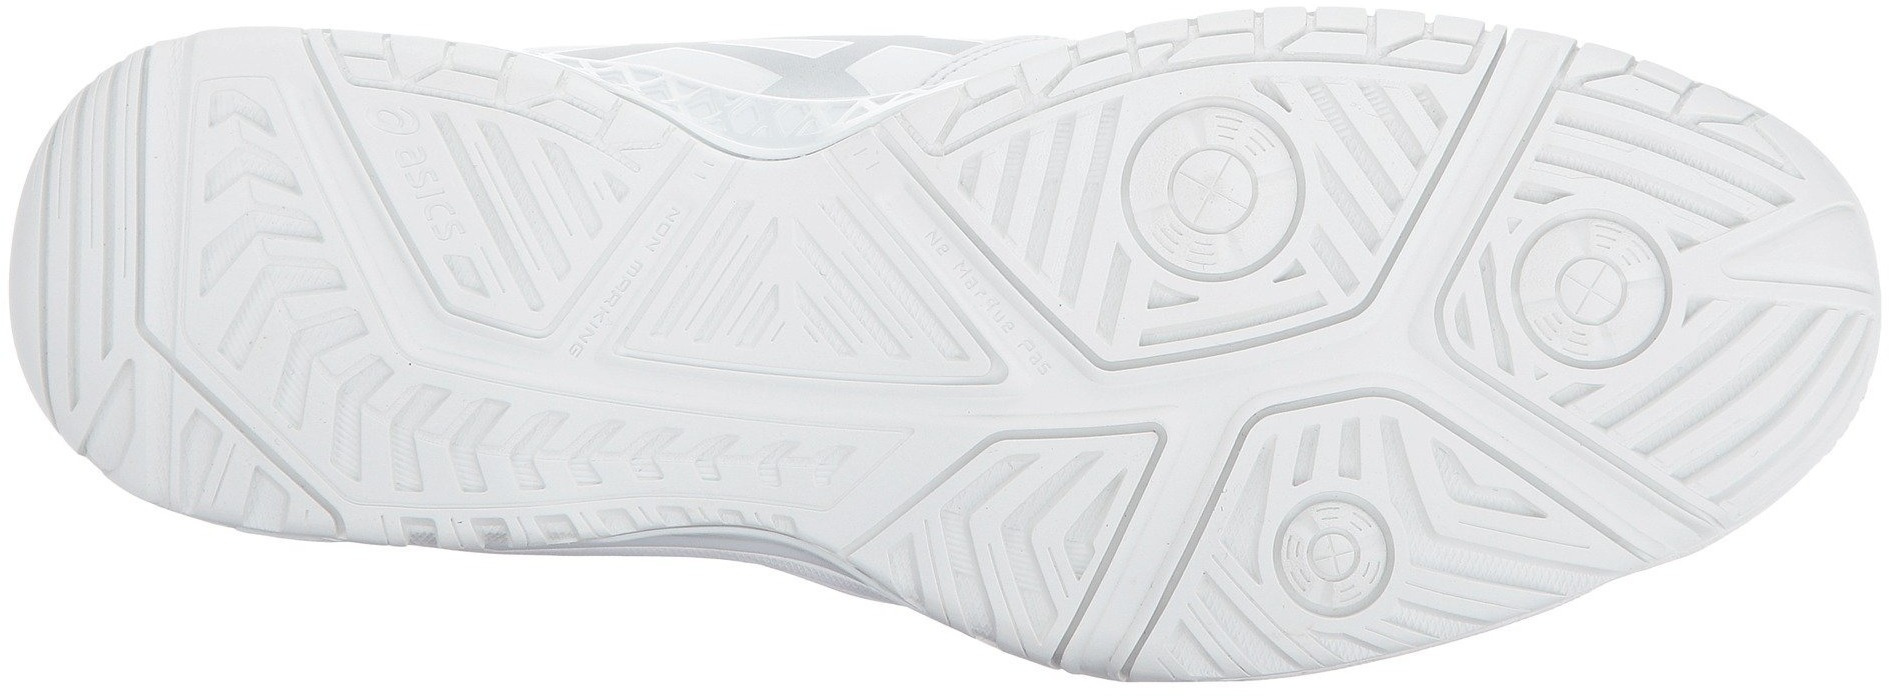chevron: (187, 231, 393, 421), (696, 188, 888, 366), (929, 446, 1099, 612)
circle: (1119, 98, 1313, 281), (1510, 210, 1677, 371), (1267, 494, 1403, 620)
exclude: (443, 523, 923, 694)
ribbon: (1124, 303, 1306, 477), (1325, 256, 1502, 427)
text: (379, 142, 452, 211), (407, 187, 471, 252)
